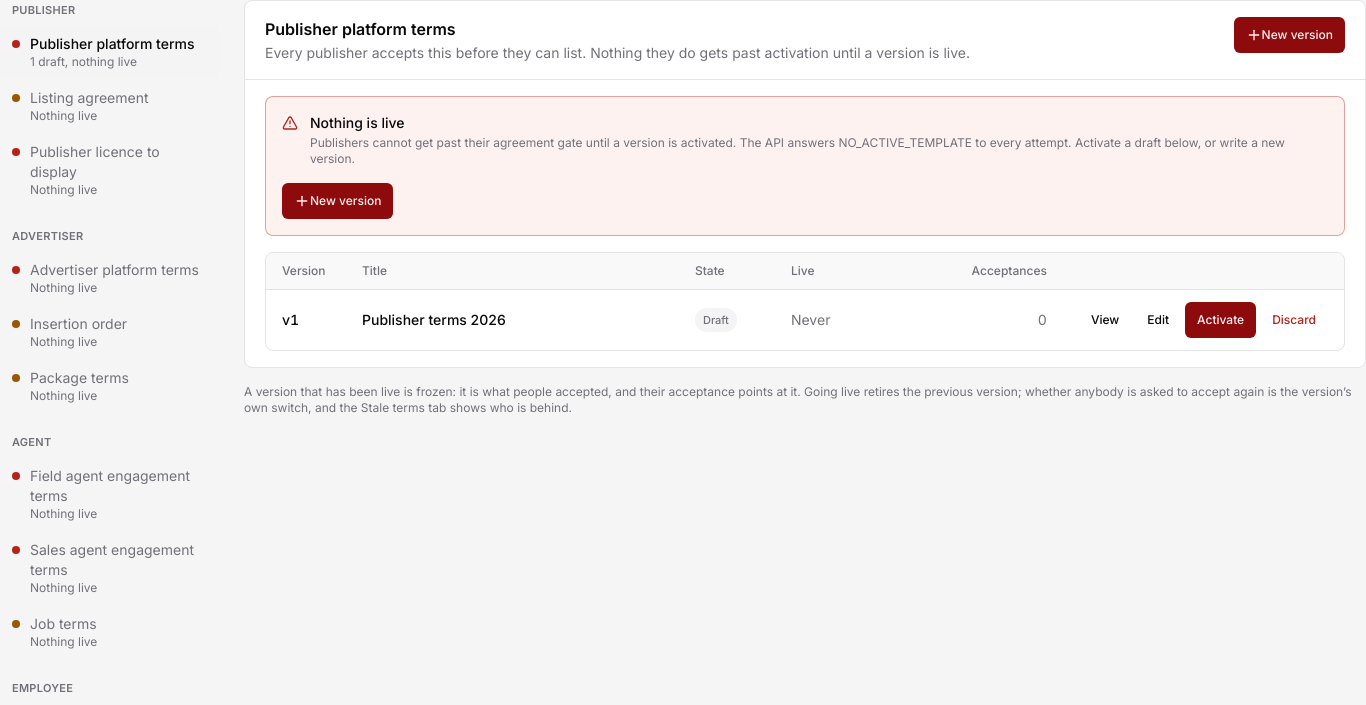
a draft › can be discarded, after a confirmation, and the kind goes back to empty
Click the button "Discard" at (1294, 320), box x1=1260 y1=302 x2=1328 y2=338
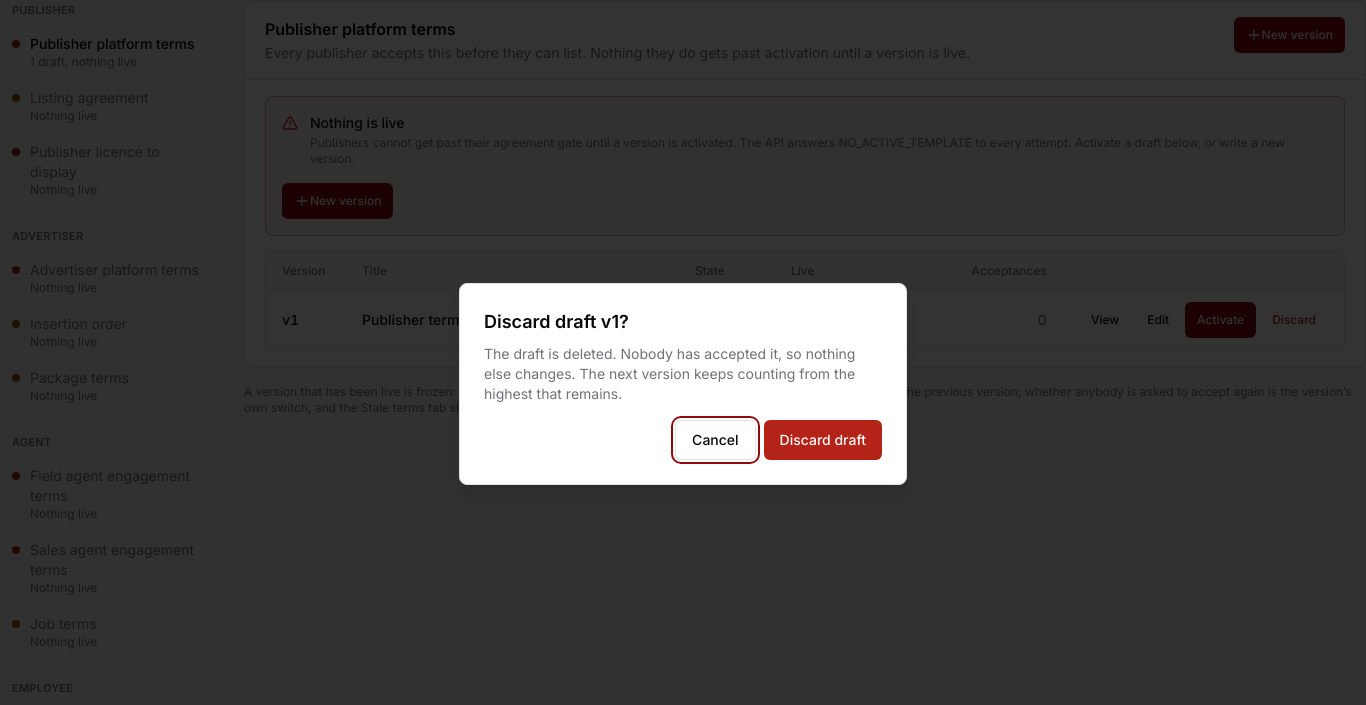
Expected: the dialog shows "Discard draft v1?", x1=484 y1=311 x2=629 y2=332
Click the button "Discard draft" at (823, 440), box x1=764 y1=420 x2=882 y2=460
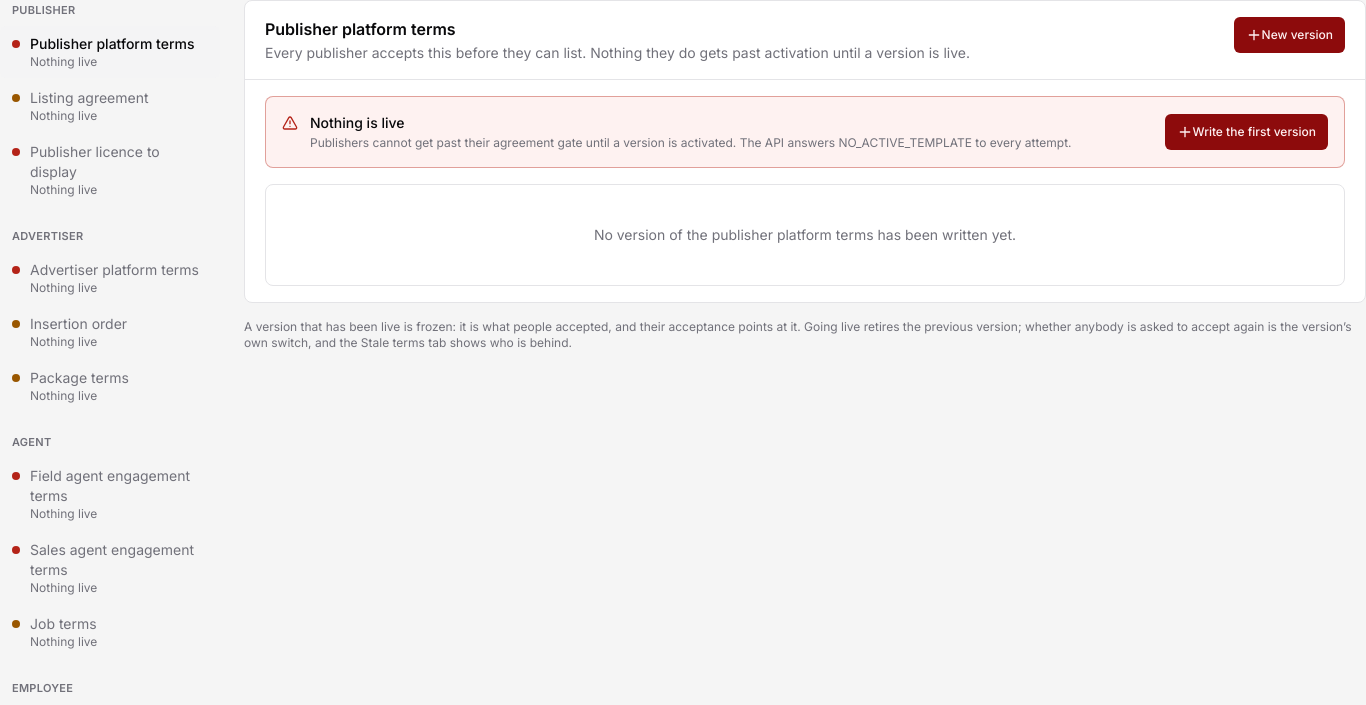
Expected: the button "Write the first version" is shown, x1=1164 y1=114 x2=1328 y2=150
